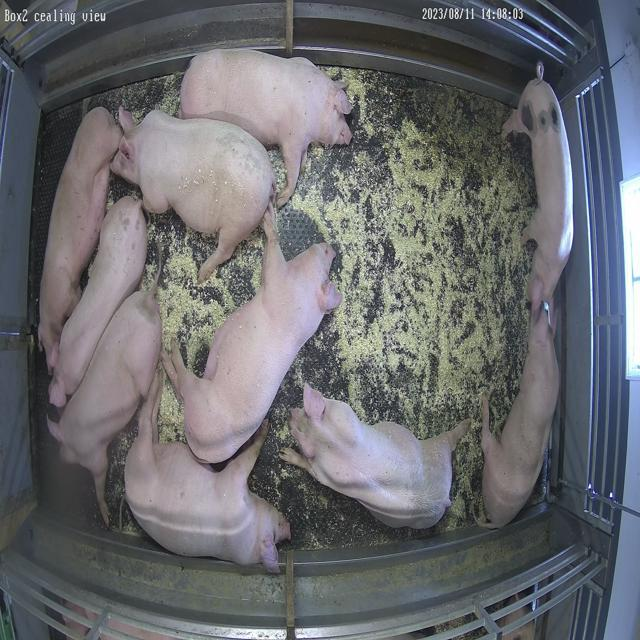Dirt: (415, 82, 515, 192)
Pig: (163, 205, 342, 464), (483, 62, 575, 528), (125, 371, 290, 574), (111, 110, 274, 282), (280, 385, 471, 530), (181, 49, 352, 206), (47, 292, 161, 526), (37, 107, 122, 372), (48, 197, 147, 408), (504, 62, 575, 310)
